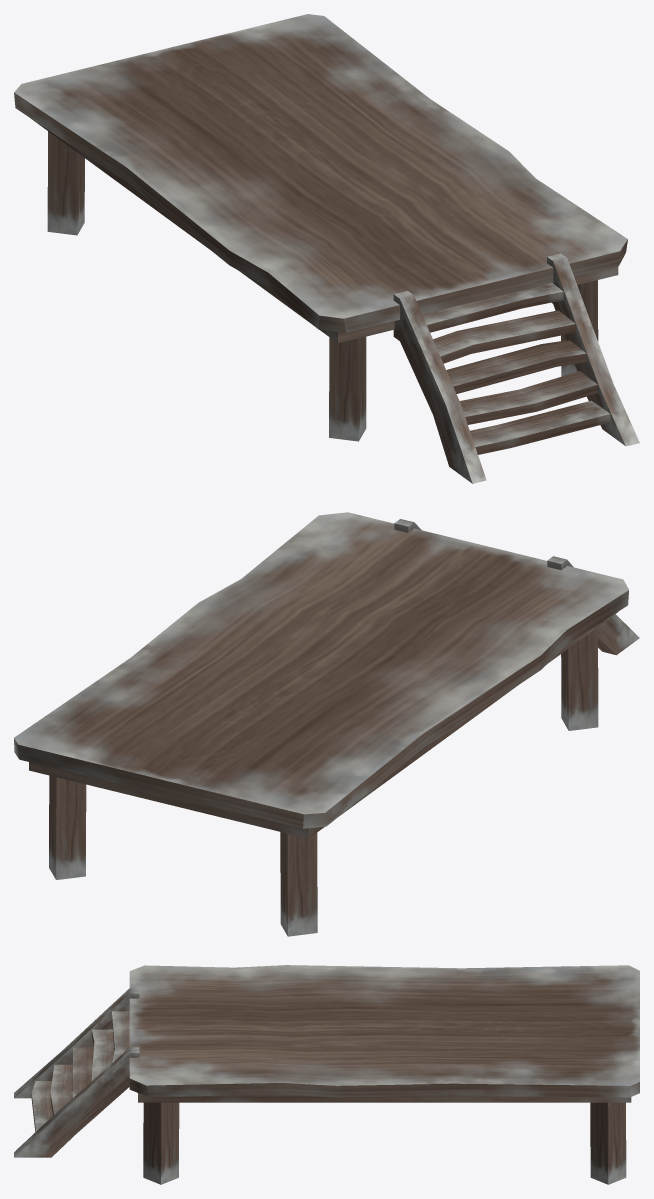
The model's file is snow_a_r09.fbx.
3 views of the same model, one above another, from view 1: azimuth 30°, elevation 25°; view 2: azimuth 150°, elevation 25°; view 3: azimuth 270°, elevation 25° (orthographic). The views are drawn at different scales.
Visible parts, largest first — view 1: snow_a_r09; view 2: snow_a_r09; view 3: snow_a_r09.
Part boxes in pixels (<box>): snow_a_r09: <box>14,14,639,483</box>; snow_a_r09: <box>14,512,639,936</box>; snow_a_r09: <box>14,965,639,1184</box>.
Size of the model in its own units: 196 by 84.9 by 429.
